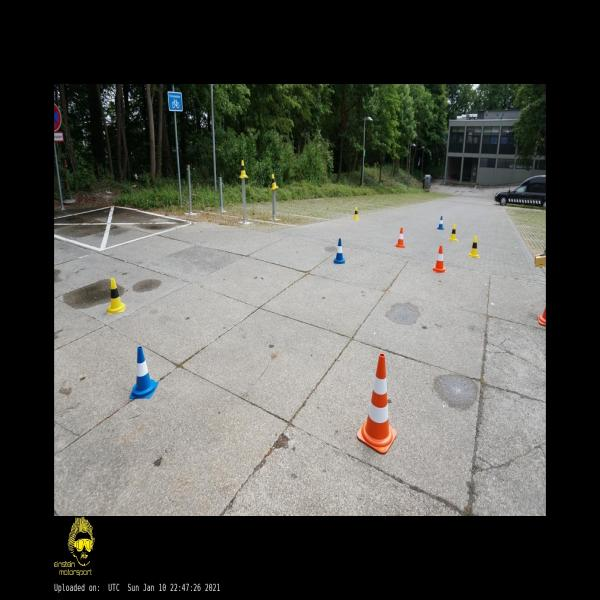blue_cone: (130, 346, 158, 399), (333, 238, 345, 264), (437, 215, 444, 230)
large_orange_cone: (357, 353, 397, 455)
orange_cone: (432, 245, 447, 273), (395, 228, 406, 248)
yellow_cone: (107, 278, 125, 314), (469, 235, 480, 258), (239, 160, 248, 178), (449, 224, 458, 241), (271, 174, 278, 189), (353, 206, 359, 220)
